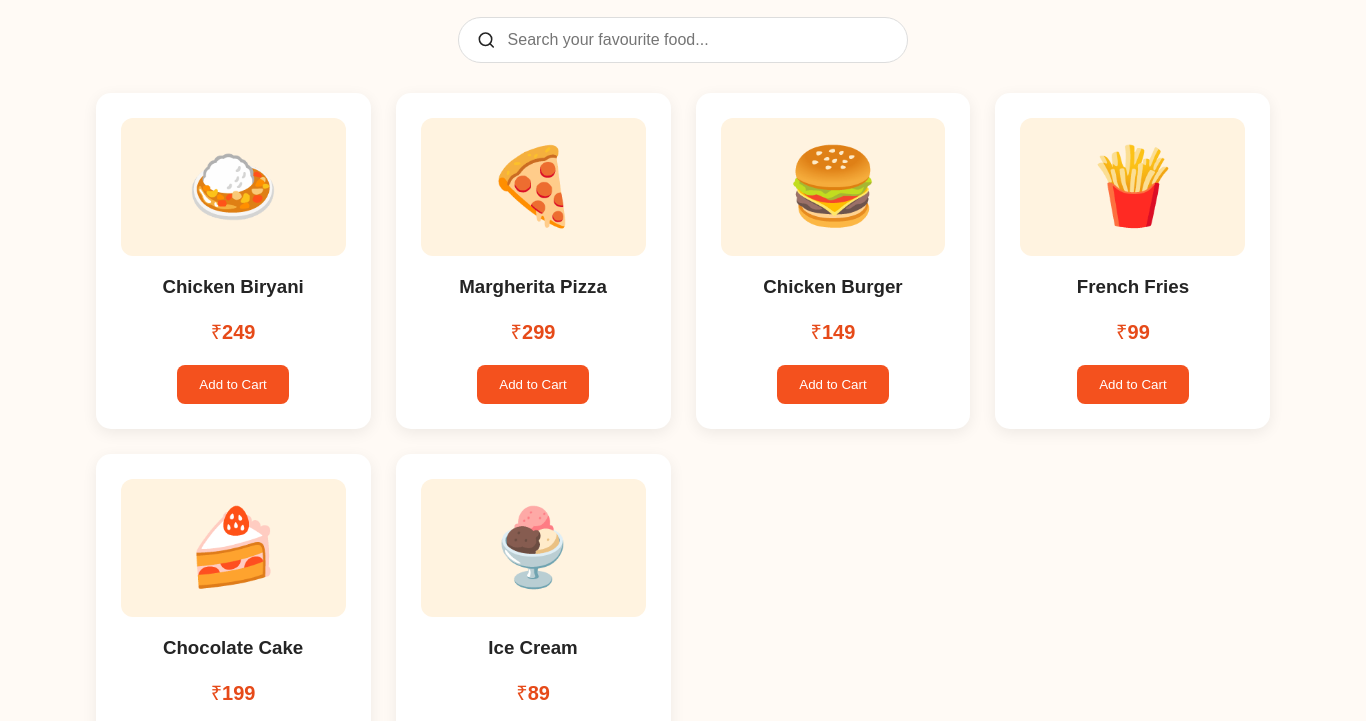
Scenario: Food Ordering Homepage › adds a food item to the shopping cart
The width and height of the screenshot is (1366, 721).
(page scrolled)
Click the button "Add to Cart" below "249" at [233, 384], box 177,365 -> 289,404
(page scrolled)
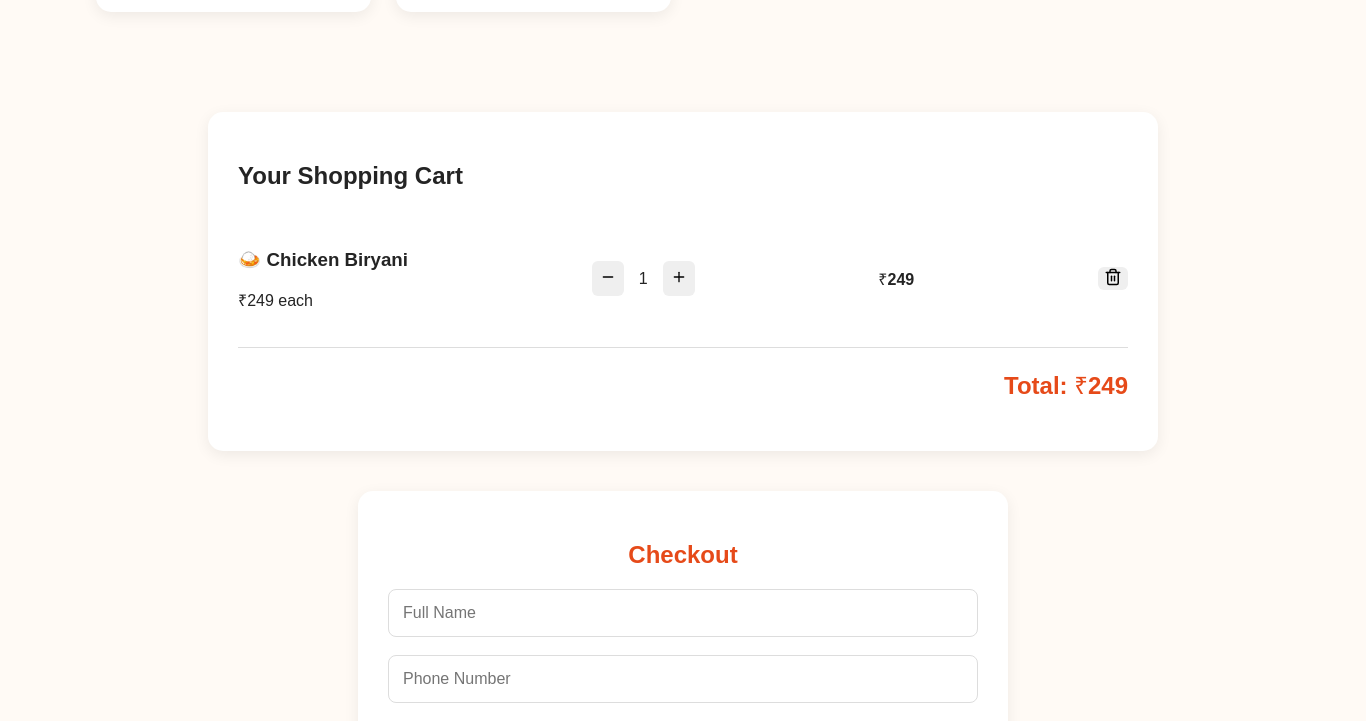
Check: the text "₹249 each" is shown, box 238,292 -> 313,309
Check: the heading "Total: ₹249" is shown, box 1004,372 -> 1128,399
